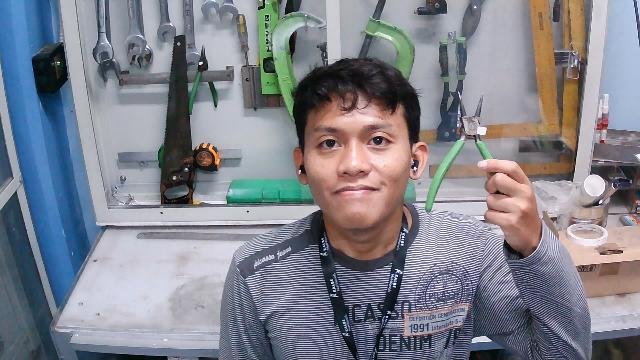tang_cucut_lancip_1: (417, 92, 506, 219)
